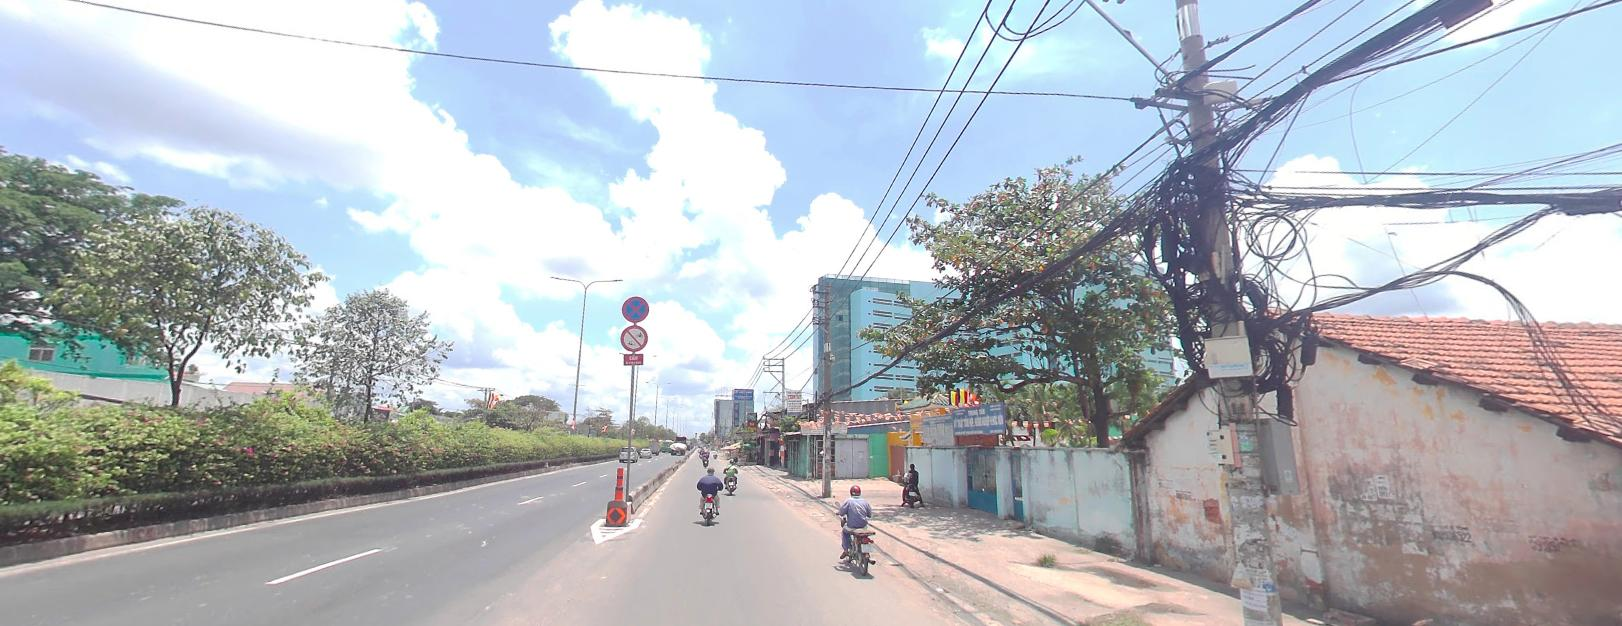Cam con lai: (620, 324, 648, 350)
Cam dung va do: (621, 295, 648, 321)
